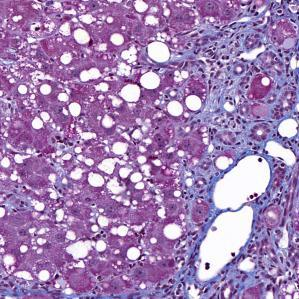fibrosis: (194, 30, 295, 138), (246, 236, 299, 298), (186, 186, 217, 234)
